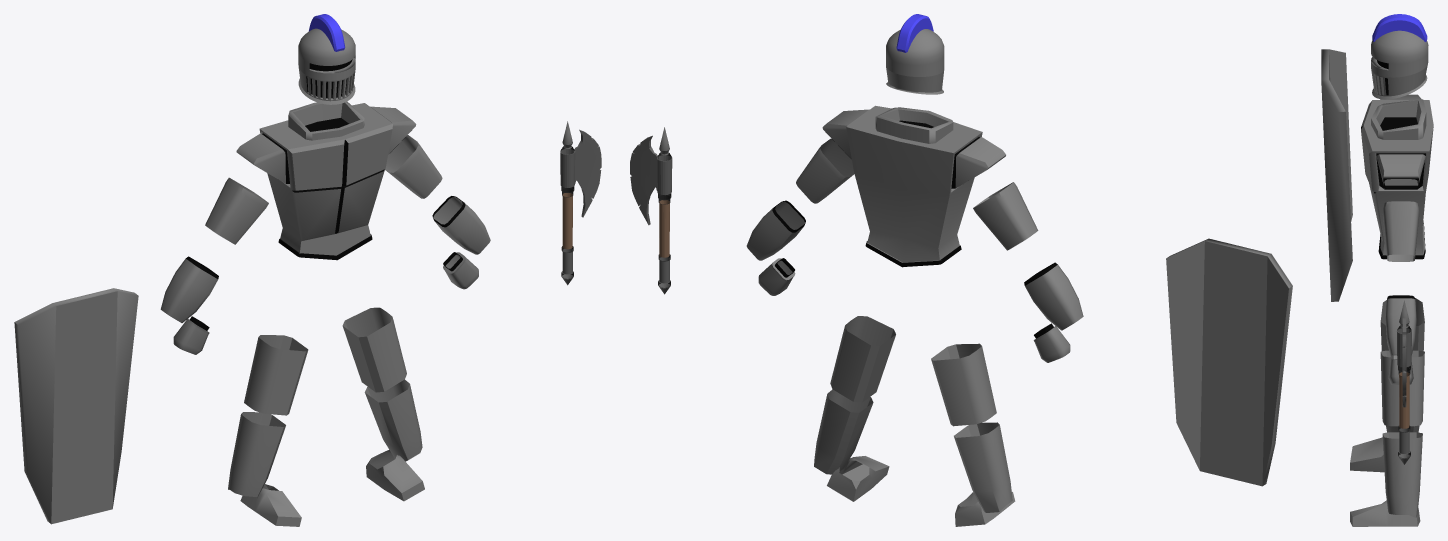
Rendered from Knight_Righ_Shin01.fbx.
The picture shows the model from 3 angles, left to right: view 1: azimuth 30°, elevation 25°; view 2: azimuth 150°, elevation 25°; view 3: azimuth 270°, elevation 25°; orthographic projection. The views are drawn at different scales.
Visible parts, largest first — view 1: Shield, Armor Torso, Armor Helmet, Armor Right Leg.002, Armor Left Leg.002, Armor Right Leg.001, Axe, Armor Left Leg.001, Armor Right Arm, Armor Right Arm.001, Armor Left Arm, Armor Left Arm.001 (+4 smaller); view 2: Shield, Armor Torso, Armor Right Leg.002, Armor Left Leg.002, Armor Helmet, Armor Right Leg.001, Axe, Armor Left Leg.001, Armor Right Arm, Armor Right Arm.001, Armor Left Arm, Armor Left Arm.001 (+4 smaller); view 3: Armor Torso, Shield, Armor Helmet, Armor Left Leg.001, Armor Left Leg.002, Armor Left Arm, Axe, Armor Left Arm.001, Armor Left Foot, Armor Right Feet, Armor Right Leg.002, Armor Left Hand (+1 smaller).
Boxes of the visible parts, bbox=[...] form: Shield: bbox=[14, 288, 138, 524]; Armor Torso: bbox=[236, 101, 416, 260]; Armor Helmet: bbox=[298, 14, 355, 104]; Armor Right Leg.002: bbox=[244, 335, 308, 415]; Armor Left Leg.002: bbox=[342, 307, 406, 392]; Armor Right Leg.001: bbox=[228, 412, 285, 497]; Axe: bbox=[560, 121, 601, 285]; Armor Left Leg.001: bbox=[364, 379, 422, 461]; Armor Right Arm: bbox=[205, 177, 268, 244]; Armor Right Arm.001: bbox=[160, 256, 218, 322]; Armor Left Arm: bbox=[385, 135, 442, 198]; Armor Left Arm.001: bbox=[432, 196, 490, 254]; Shield: bbox=[1166, 238, 1292, 486]; Armor Torso: bbox=[822, 105, 1005, 267]; Armor Right Leg.002: bbox=[931, 343, 996, 426]; Armor Left Leg.002: bbox=[830, 316, 895, 402]; Armor Helmet: bbox=[886, 14, 944, 94]; Armor Right Leg.001: bbox=[954, 422, 1012, 512]; Axe: bbox=[630, 127, 672, 294]; Armor Left Leg.001: bbox=[814, 389, 873, 474]; Armor Right Arm: bbox=[973, 182, 1038, 250]; Armor Right Arm.001: bbox=[1024, 262, 1083, 330]; Armor Left Arm: bbox=[796, 138, 854, 203]; Armor Left Arm.001: bbox=[746, 200, 805, 260]; Armor Torso: bbox=[1361, 94, 1433, 259]; Shield: bbox=[1321, 49, 1352, 301]; Armor Helmet: bbox=[1371, 14, 1428, 99]; Armor Left Leg.001: bbox=[1382, 432, 1422, 517]; Armor Left Leg.002: bbox=[1380, 350, 1424, 426]; Armor Left Arm: bbox=[1382, 201, 1419, 261]; Axe: bbox=[1397, 300, 1411, 464]; Armor Left Arm.001: bbox=[1385, 295, 1416, 359]; Armor Left Foot: bbox=[1350, 500, 1420, 526]; Armor Right Feet: bbox=[1350, 437, 1384, 472]; Armor Right Leg.002: bbox=[1380, 298, 1424, 351]; Armor Left Hand: bbox=[1388, 357, 1413, 384].
Size of the model in its own units: 286 by 213 by 45.09.
